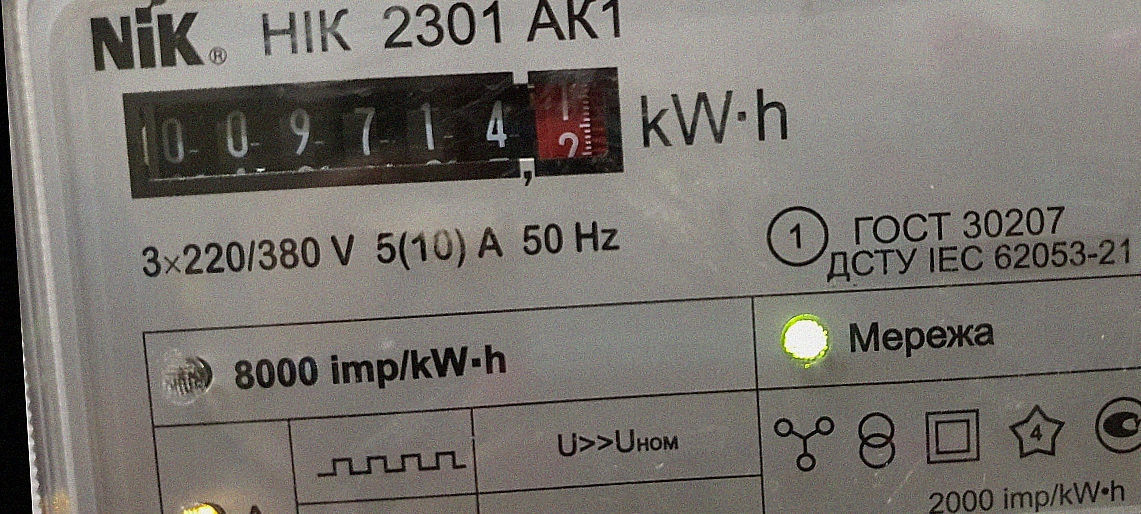0: (156, 111, 188, 167), (221, 104, 250, 159)
1: (415, 96, 440, 152), (555, 79, 572, 122)
2: (555, 126, 580, 158)
4: (479, 95, 511, 151)
7: (350, 102, 379, 157)
9: (283, 103, 314, 157)
screen: (106, 46, 641, 220)
